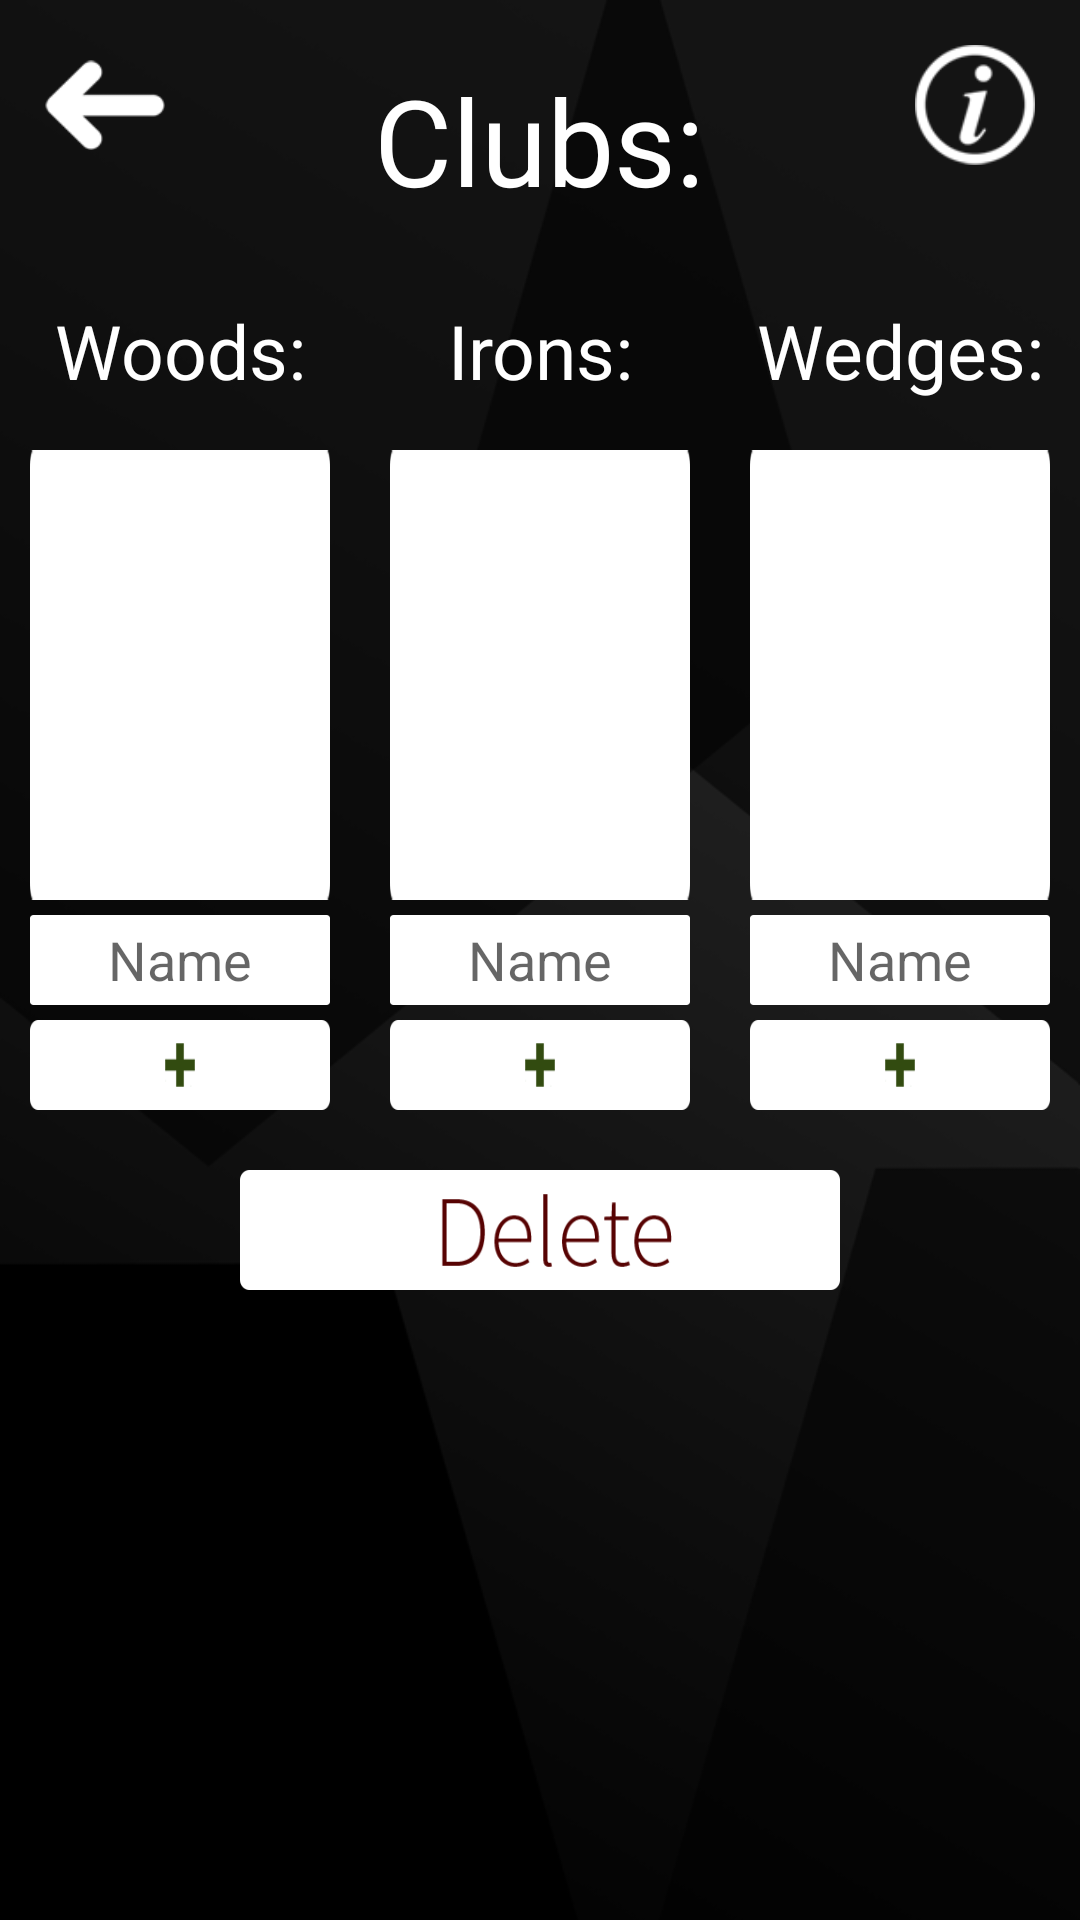

Icon click points for this 1080x1920 phone screenshot, format point (x, y):
add: point (180, 1065), point (540, 1065), point (900, 1065)
back: point (105, 105)
info: point (975, 105)
